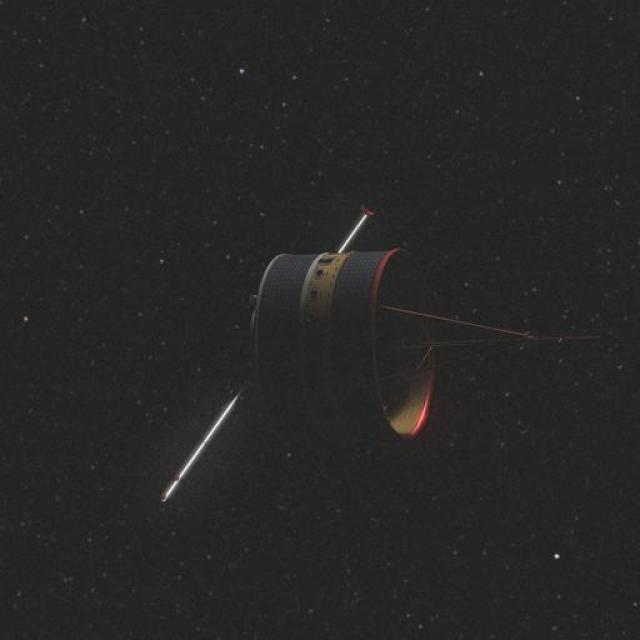double_start: (181, 229, 530, 498)
